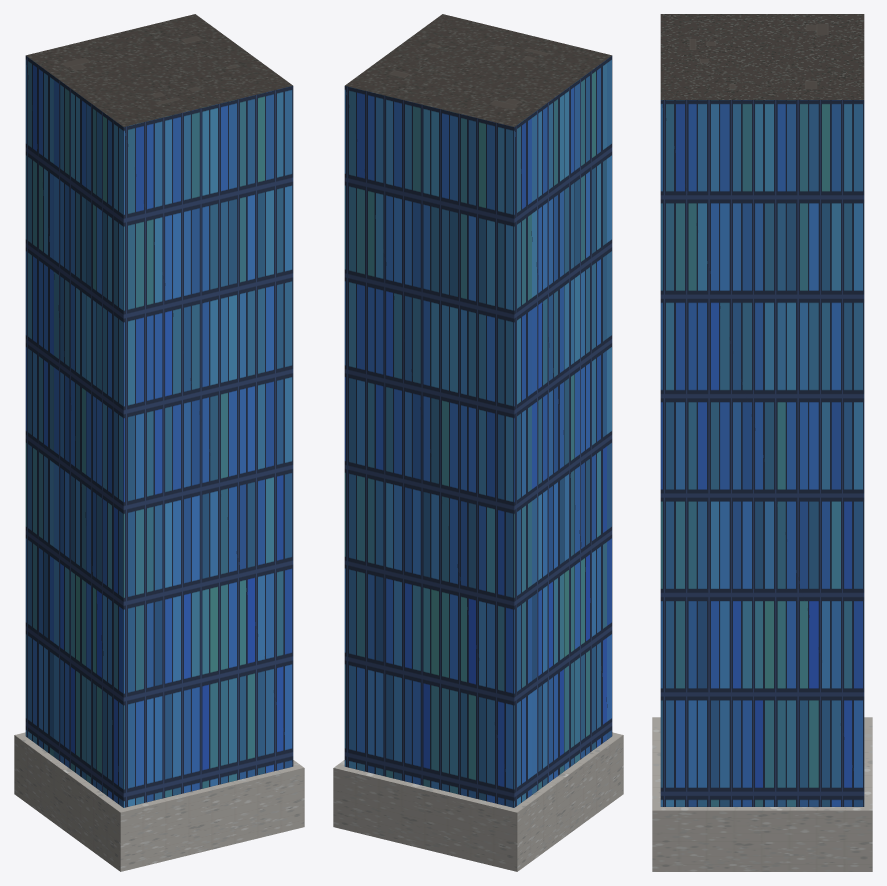
Rendered from building_tall.obj.
3 views of the same model, side by side, from view 1: azimuth 30°, elevation 25°; view 2: azimuth 150°, elevation 25°; view 3: azimuth 270°, elevation 25° (orthographic). The views are drawn at different scales.
Size of the model in its own units: 13 by 50 by 13.
3 materials, 3 textured.
